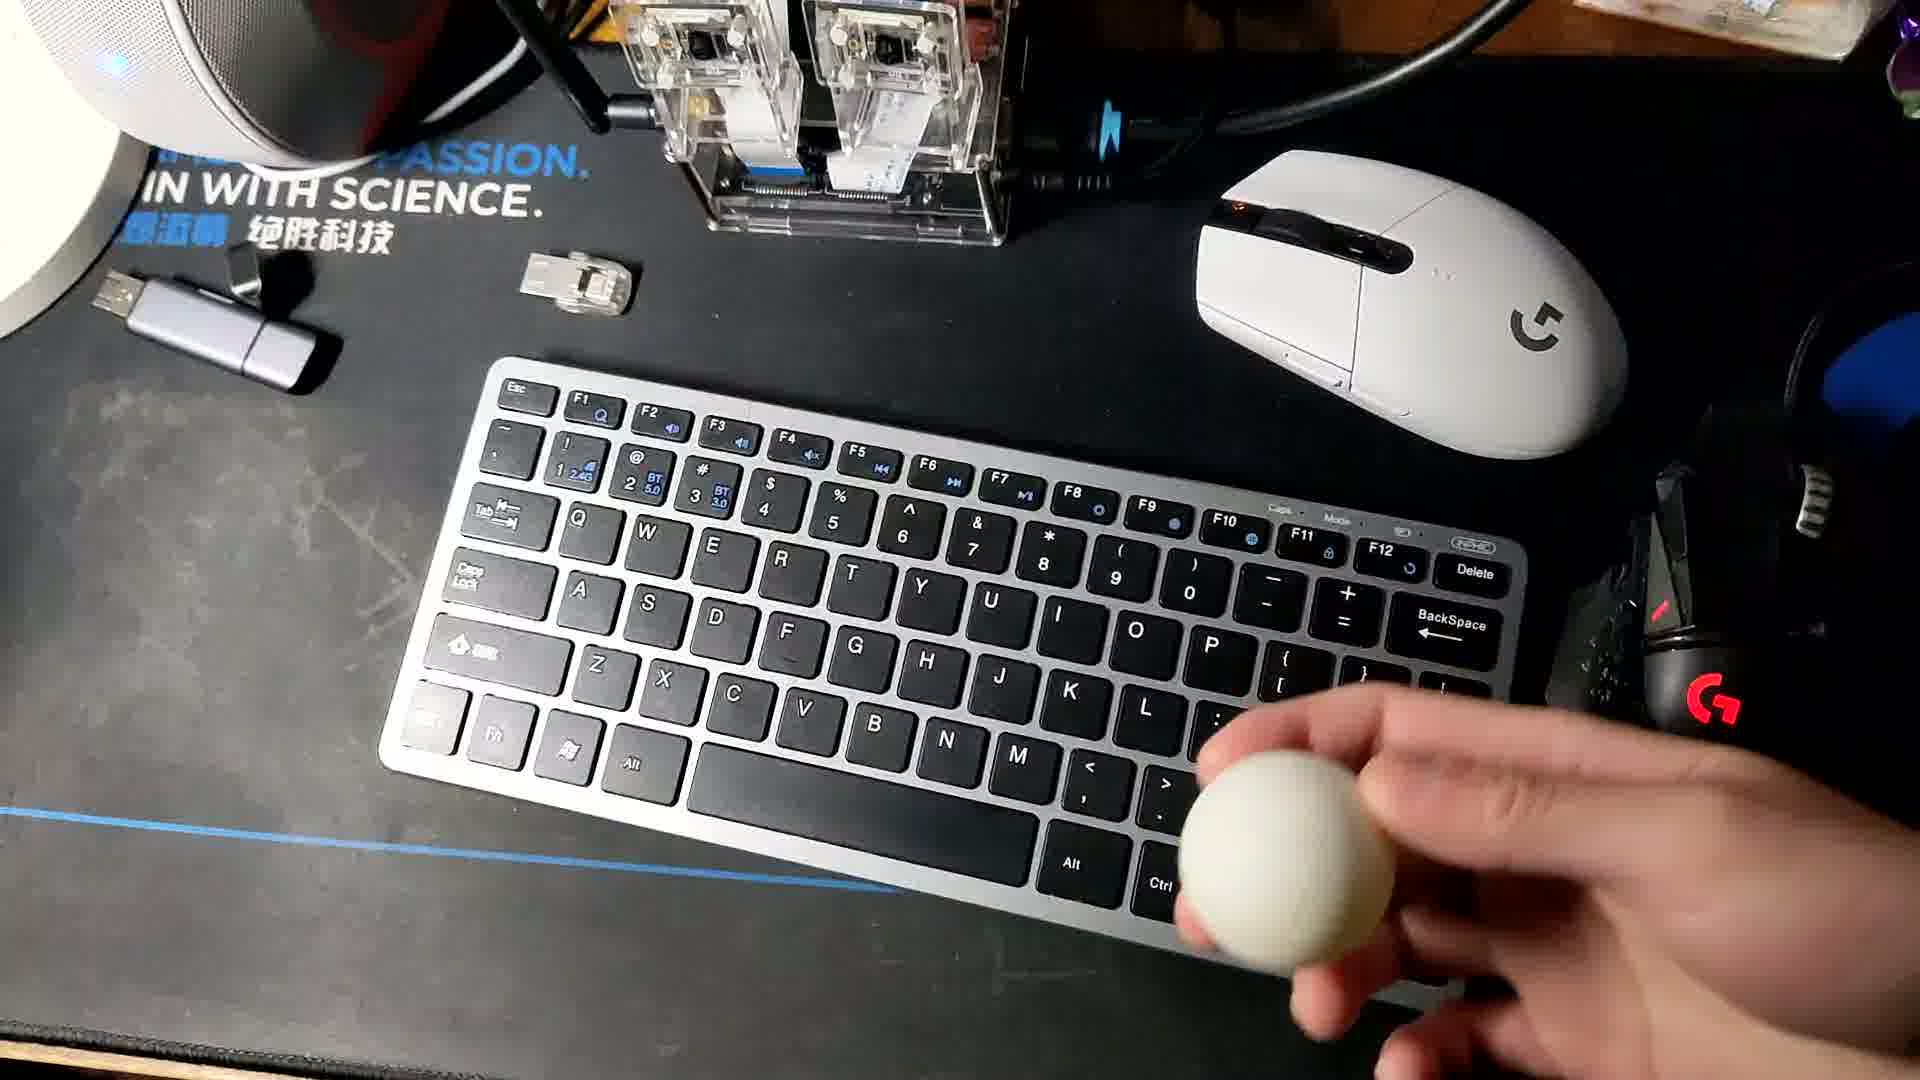Ball: (1170, 753, 1394, 975)
